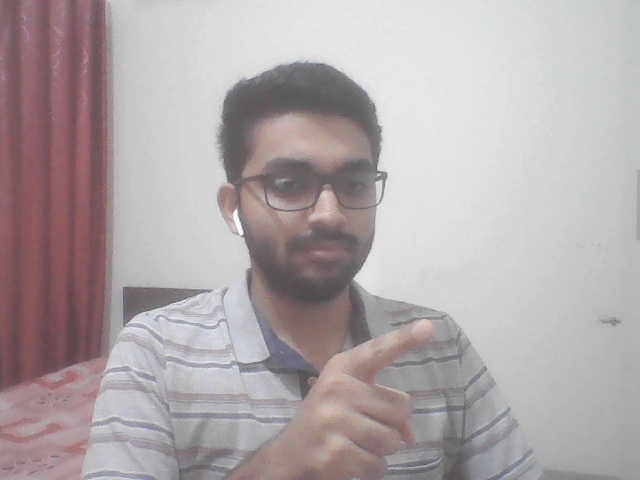you: (256, 301, 476, 476)
